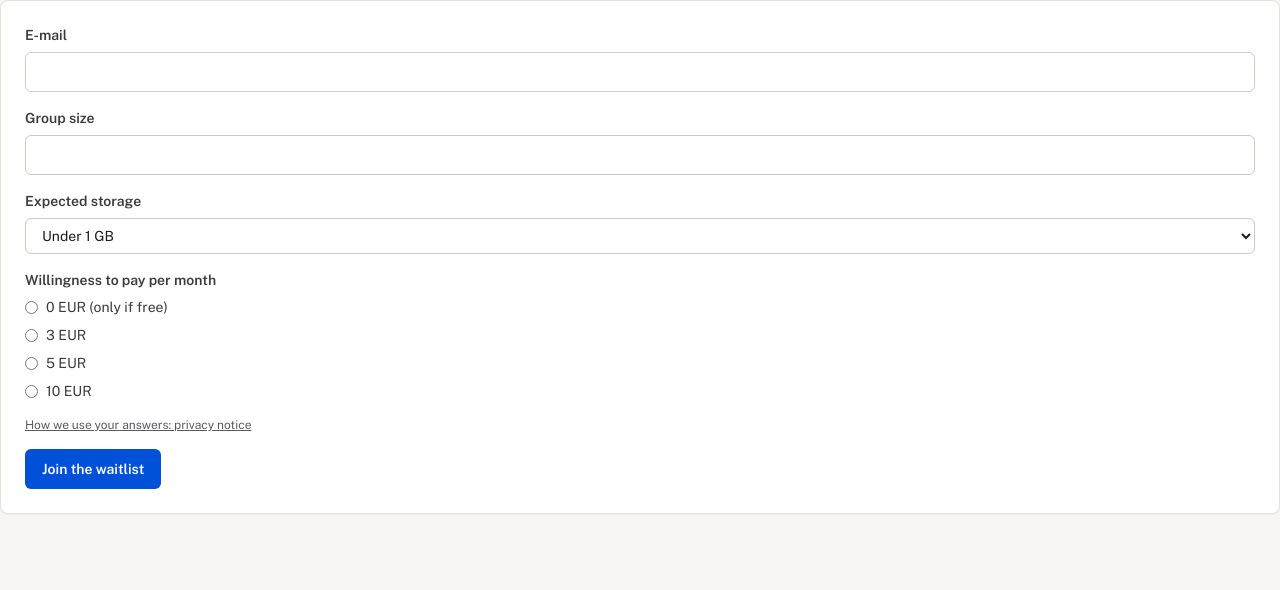
explains INVALID_STORAGE
The width and height of the screenshot is (1280, 590).
Type "Person@Example.test" into the field labelled "E-mail".
click(640, 72); type("Person@Example.test")  # box [25,52,1255,92]
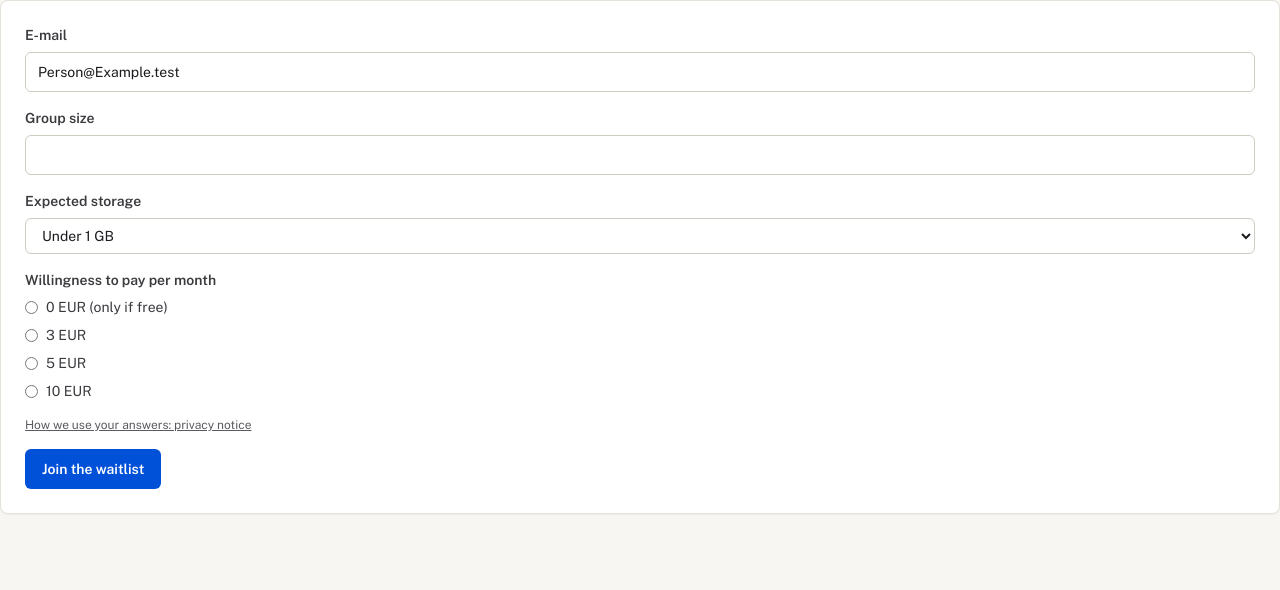
Type "12" into the number field labelled "Group size".
click(640, 155); type("12")  # box [25,135,1255,175]
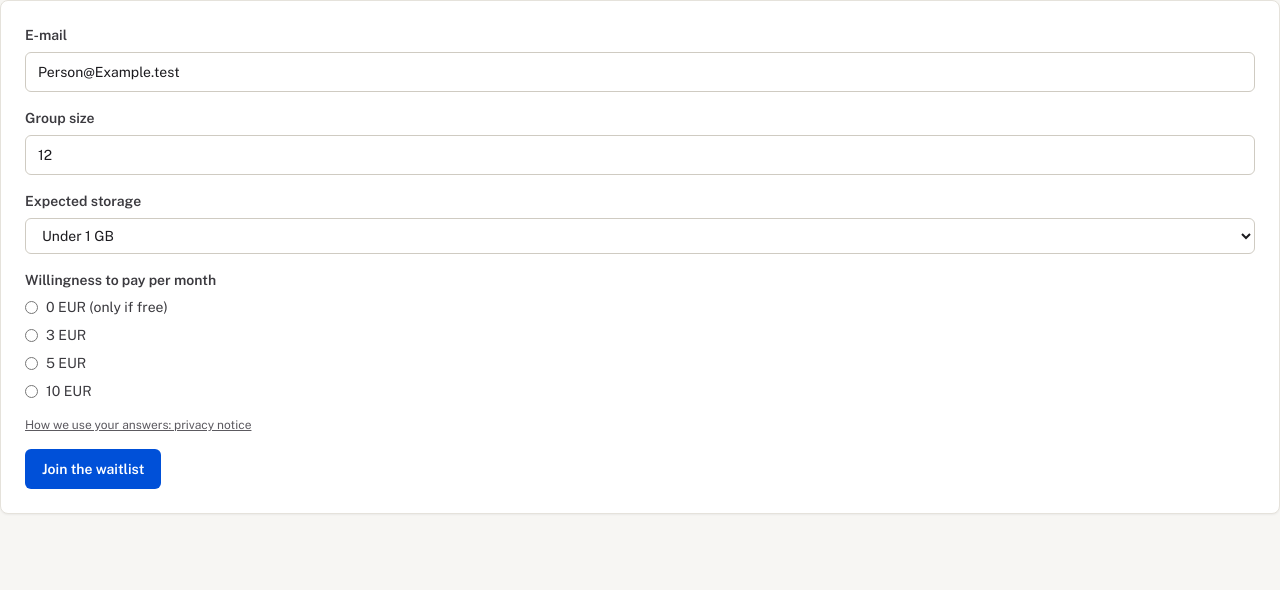
Select "10–100 GB" in the dropdown labelled "Expected storage" at (640, 236), box [25,218,1255,254]
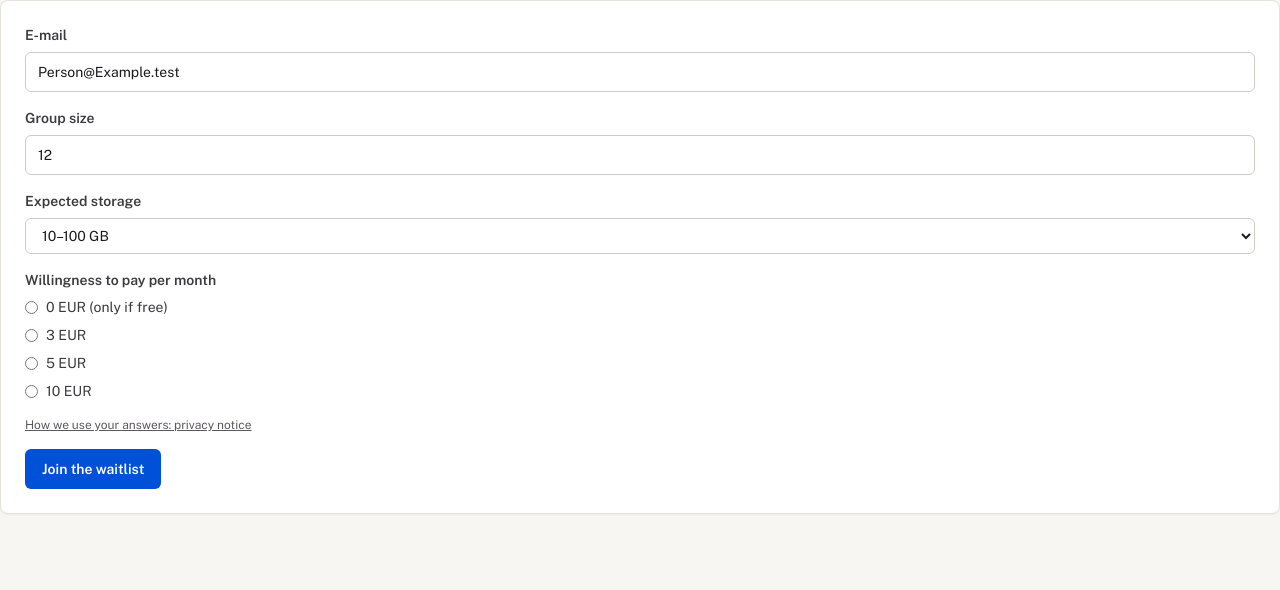
Click the radio button labelled "5 EUR".
click(32, 363)  # box [25,356,38,370]
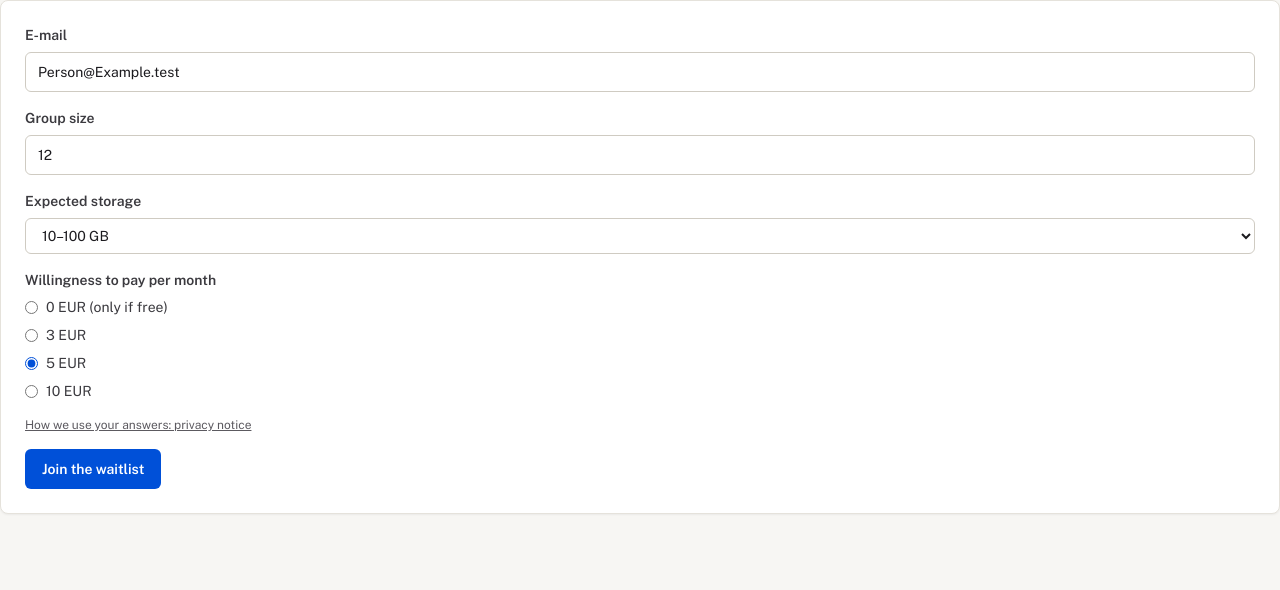
Submit the form named "Join the waitlist"
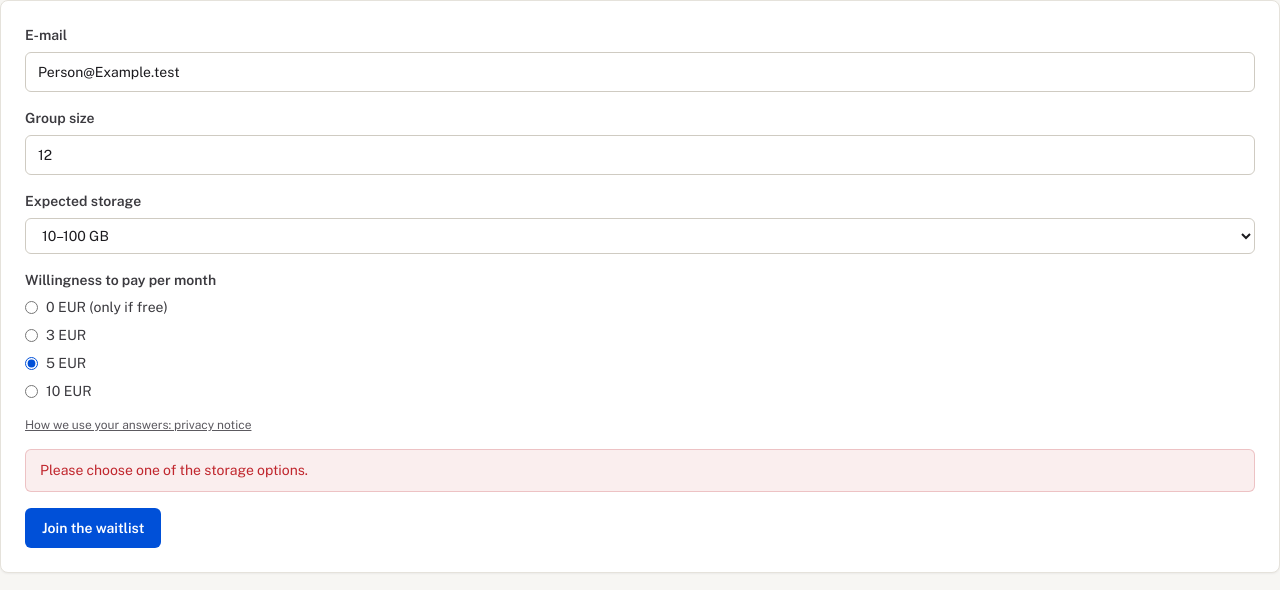
Result: the message reads "Please choose one of the storage options." at [40,462,308,478]
